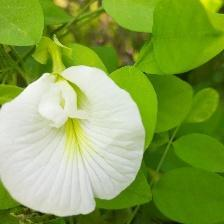shankupushpam: (1, 64, 148, 218)
